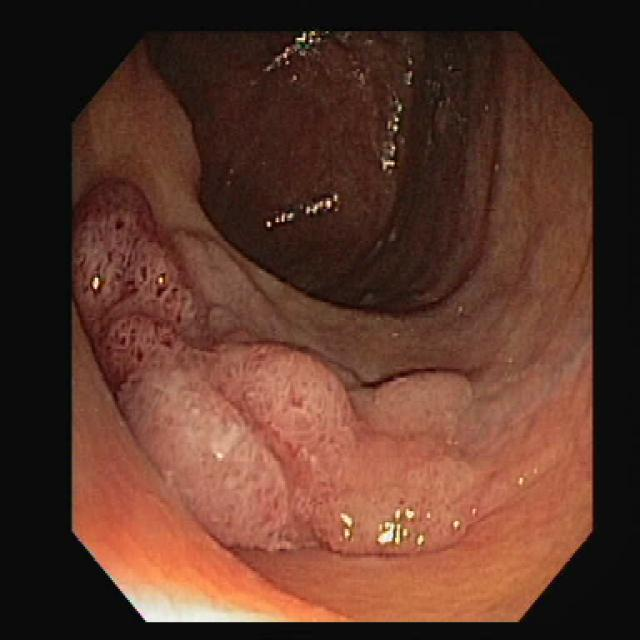tumor: (75, 178, 483, 556)
